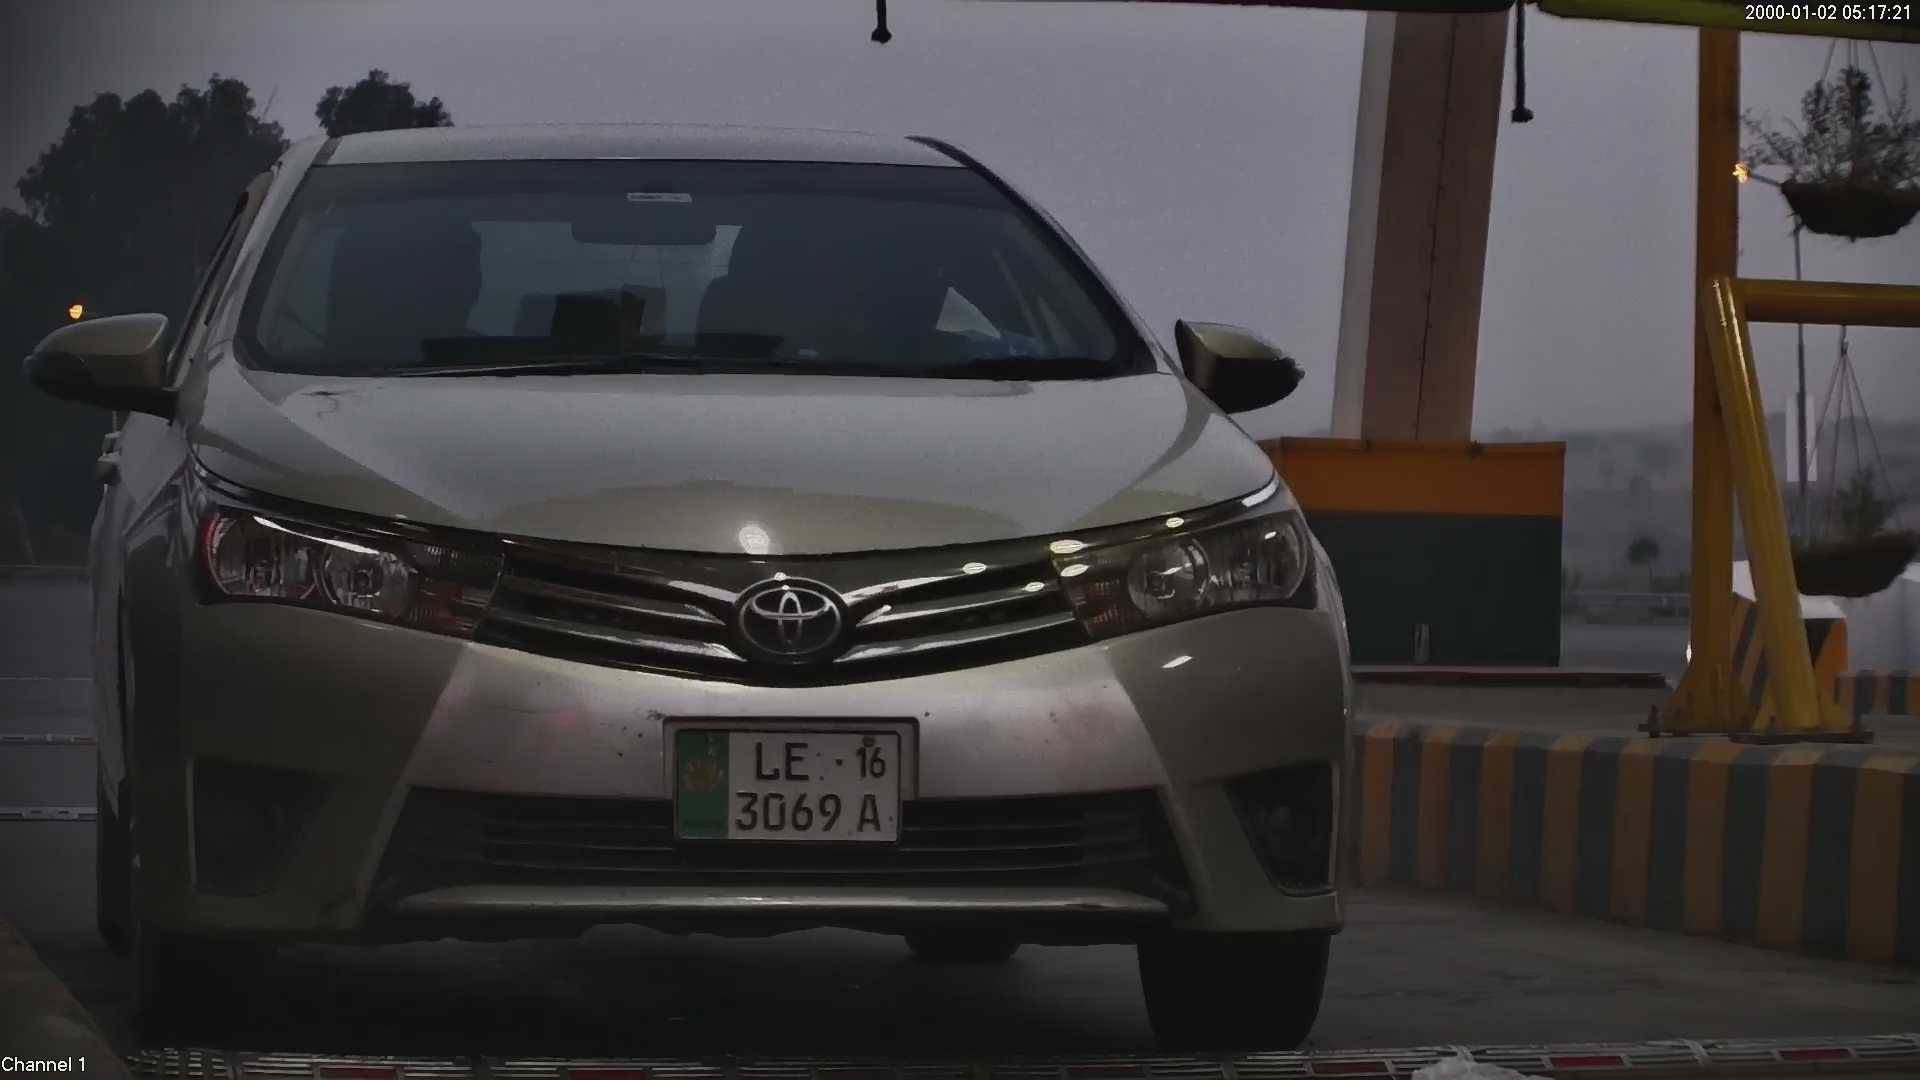Number_Plate: (661, 714, 912, 860)
